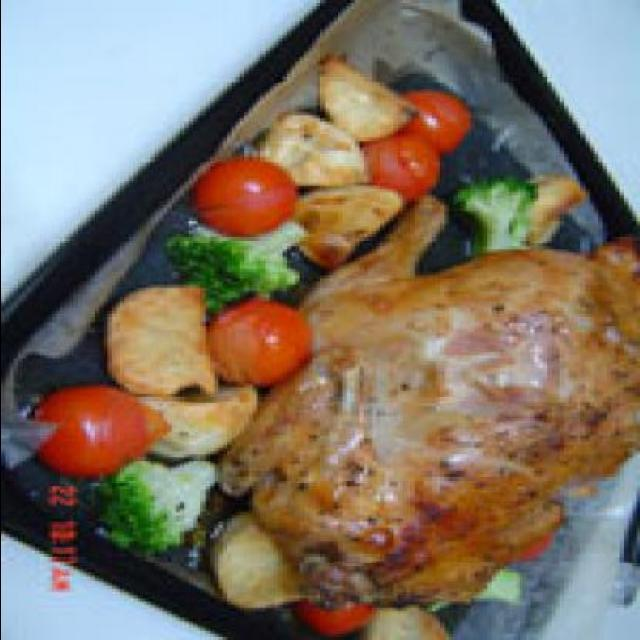Chicken roast: (252, 208, 632, 628)
Tomato: (30, 384, 141, 478), (192, 154, 286, 231), (218, 301, 302, 387)
